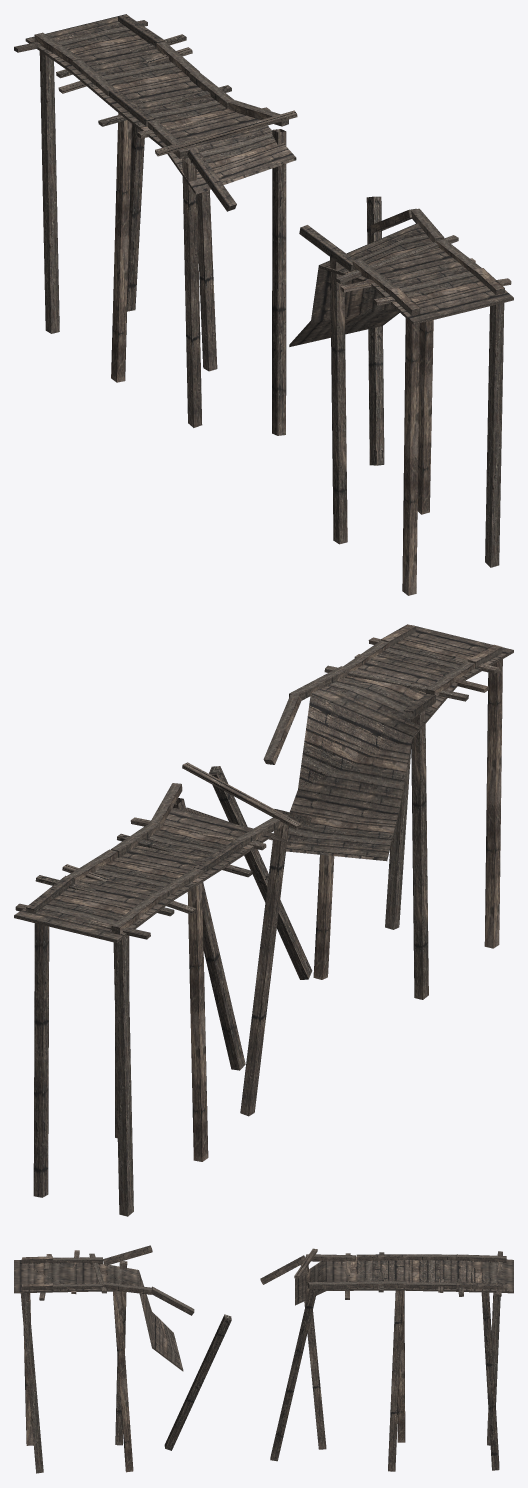
The model's file is brdg01x.glb.
3 views of the same model, one above another, from view 1: azimuth 30°, elevation 25°; view 2: azimuth 150°, elevation 25°; view 3: azimuth 270°, elevation 25° (orthographic). The views are drawn at different scales.
Parts seen in each view (by area): view 1: _brdg01x; view 2: _brdg01x; view 3: _brdg01x.
Part boxes in pixels (x1,y1,x2,y2): _brdg01x: (14,14,513,595); _brdg01x: (14,624,513,1216); _brdg01x: (14,1245,513,1473).
Size of the model in its own units: 9.51 by 17.54 by 40.
Materials: 1 (1 with a texture image).
